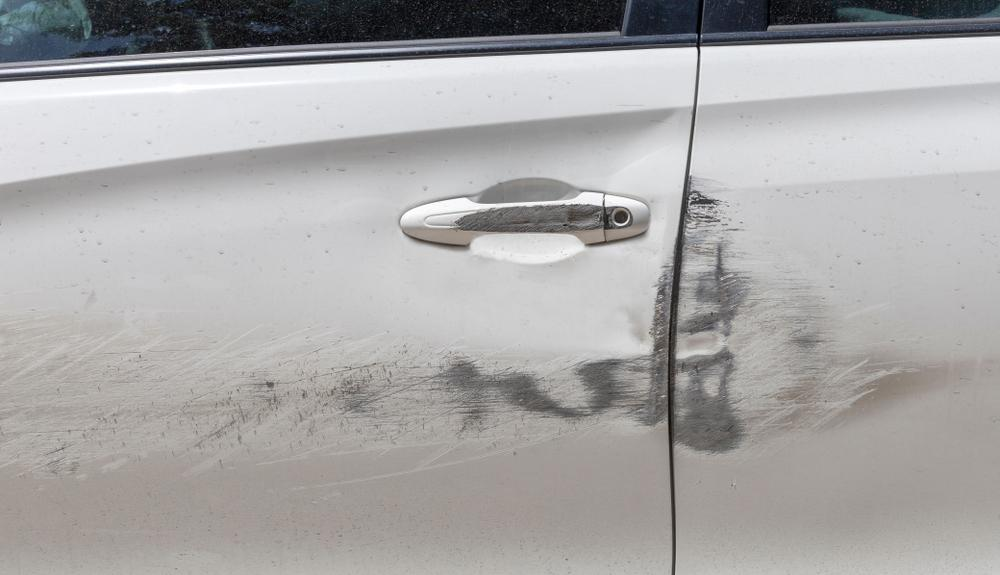scratch: (0, 240, 680, 494), (670, 172, 923, 460), (455, 204, 607, 231)
